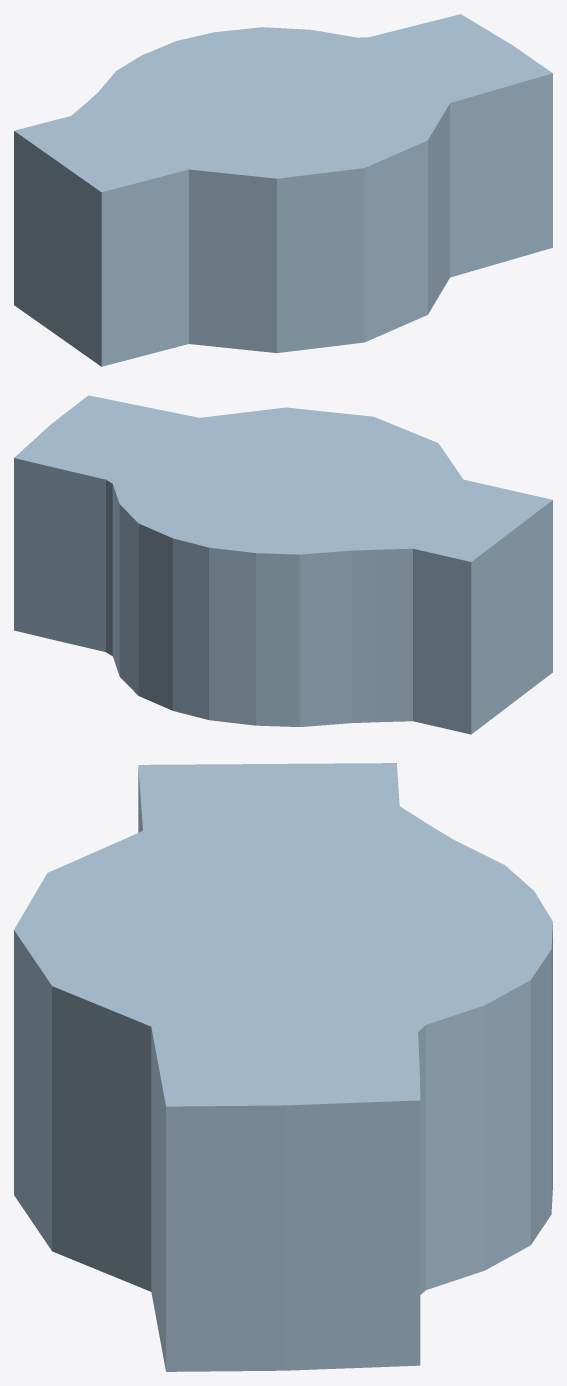
File: osm_way_224950590.glb
3 renders of one model, top to bottom at view 1: azimuth 30°, elevation 25°; view 2: azimuth 150°, elevation 25°; view 3: azimuth 270°, elevation 25°, orthographic. The views are drawn at different scales.
Parts seen in each view (by area): view 1: osm_way_224950590; view 2: osm_way_224950590; view 3: osm_way_224950590.
Part boxes in pixels (x1=…): osm_way_224950590: x1=14, y1=14, x2=552, y2=366; osm_way_224950590: x1=14, y1=395, x2=552, y2=734; osm_way_224950590: x1=14, y1=763, x2=552, y2=1371.
Bounding box in the file's own units: 65.31 × 23.51 × 43.29.
